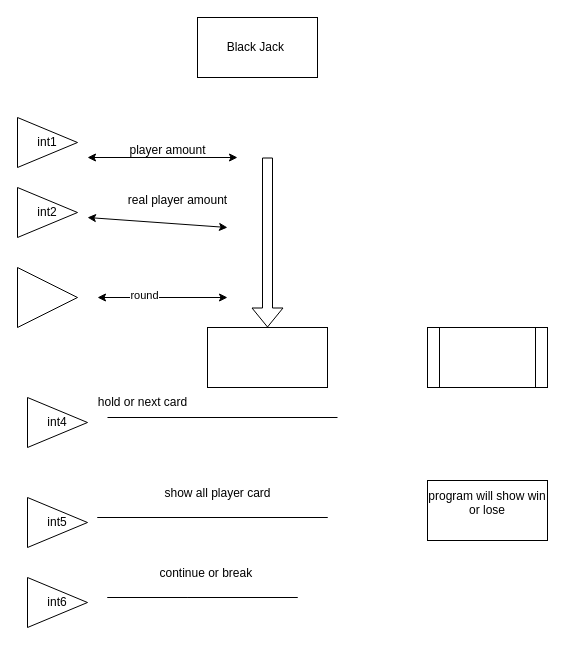
Some shapes in this 565 by 645 pixel diagram are drawn without their labels. Each missing label, with the centre of its shape:
"ascii art will show depending on his card number" belongs at (x=487, y=357).
"int3" belongs at (x=47, y=297).
"two number will generate automatic from 1 to 21 for each player" belongs at (x=267, y=357).
